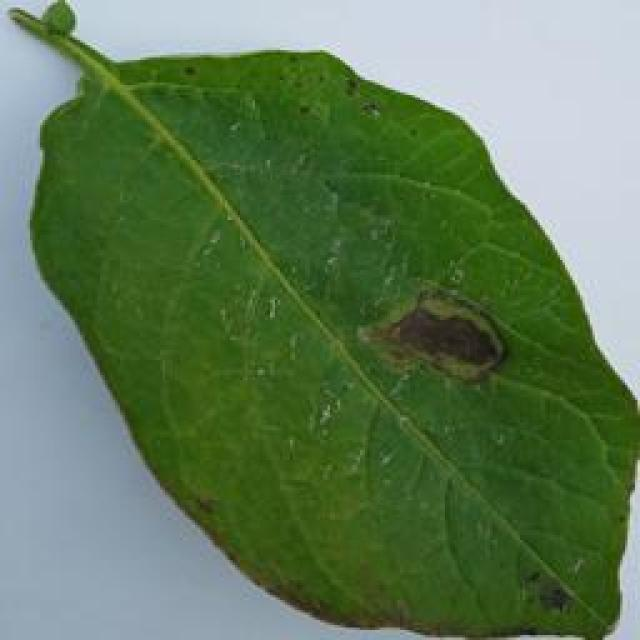Potato_Late_Blight: (16, 6, 625, 632)
